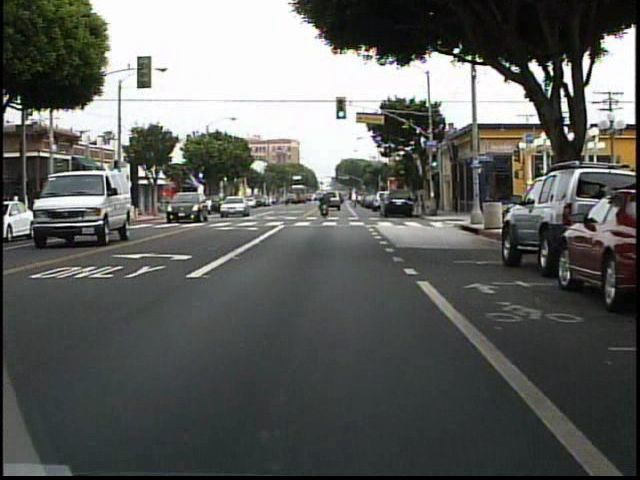person: (319, 190, 333, 219), (73, 191, 86, 221), (84, 190, 95, 221)
